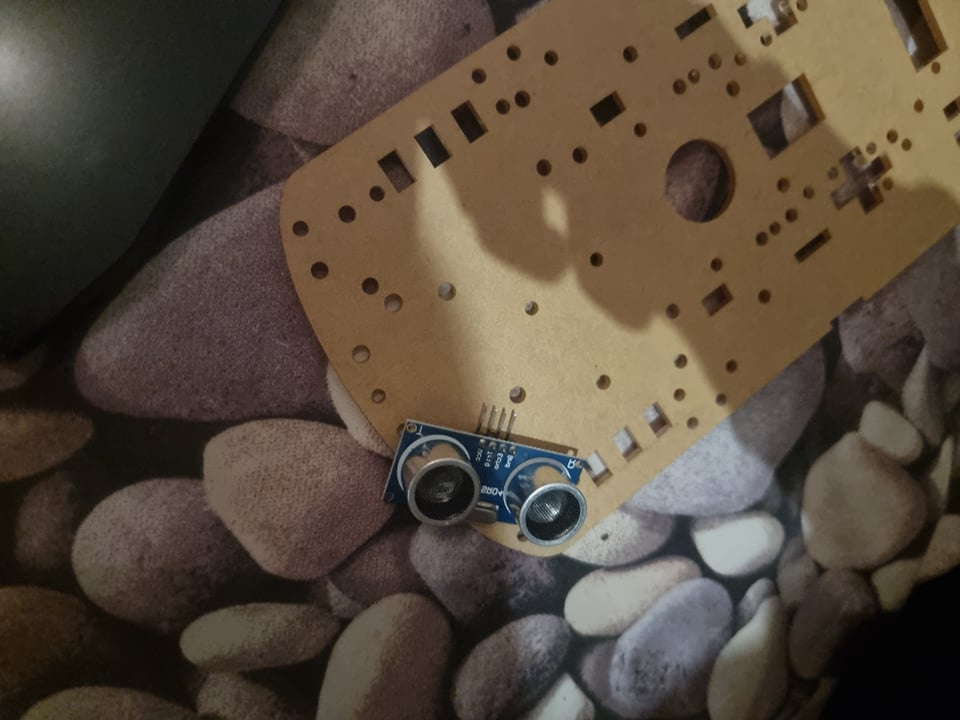SENSOR: (379, 420, 588, 548)
